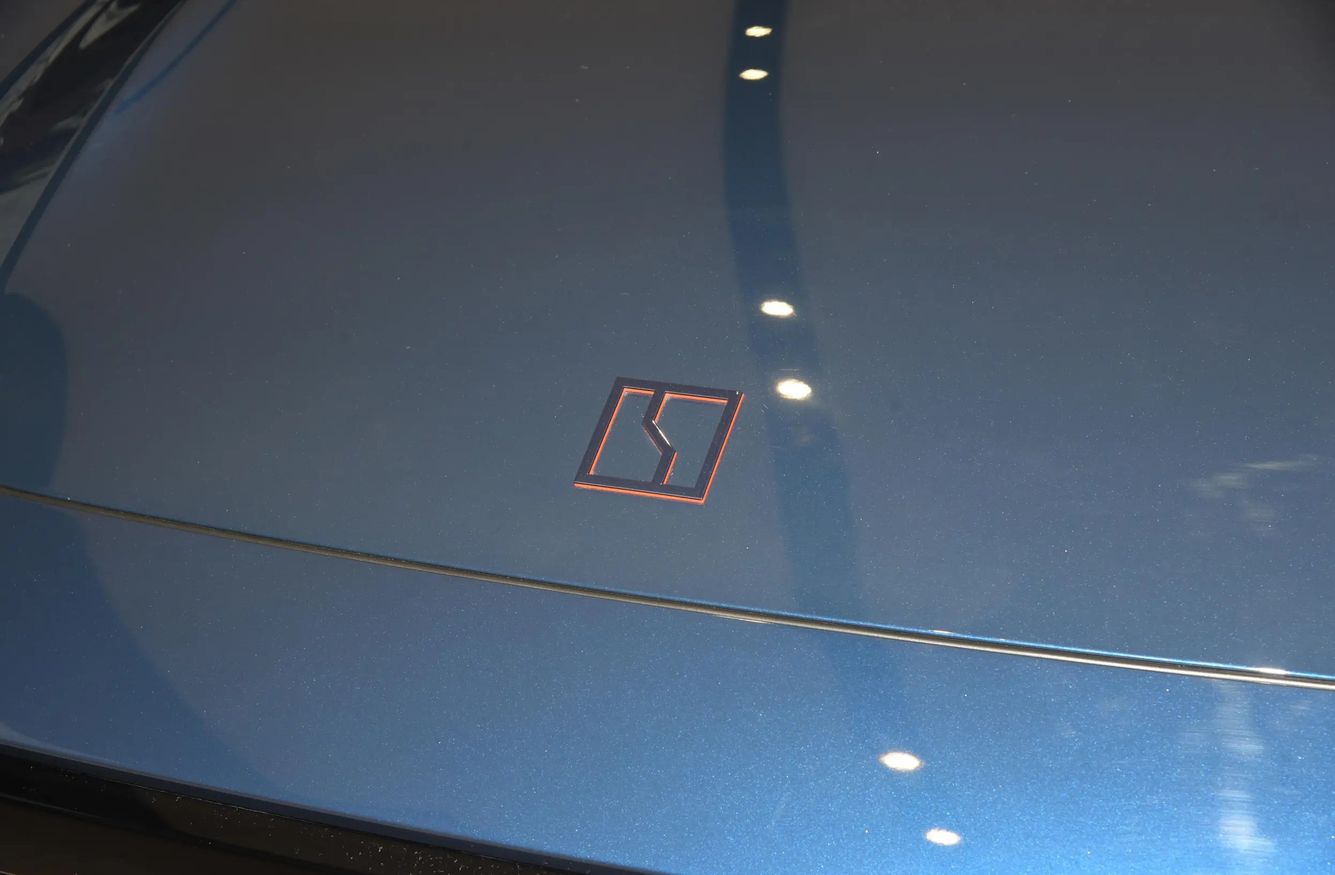ZEEKR: (575, 378, 743, 500)
